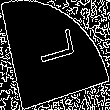L_W: (31, 34, 79, 76)
